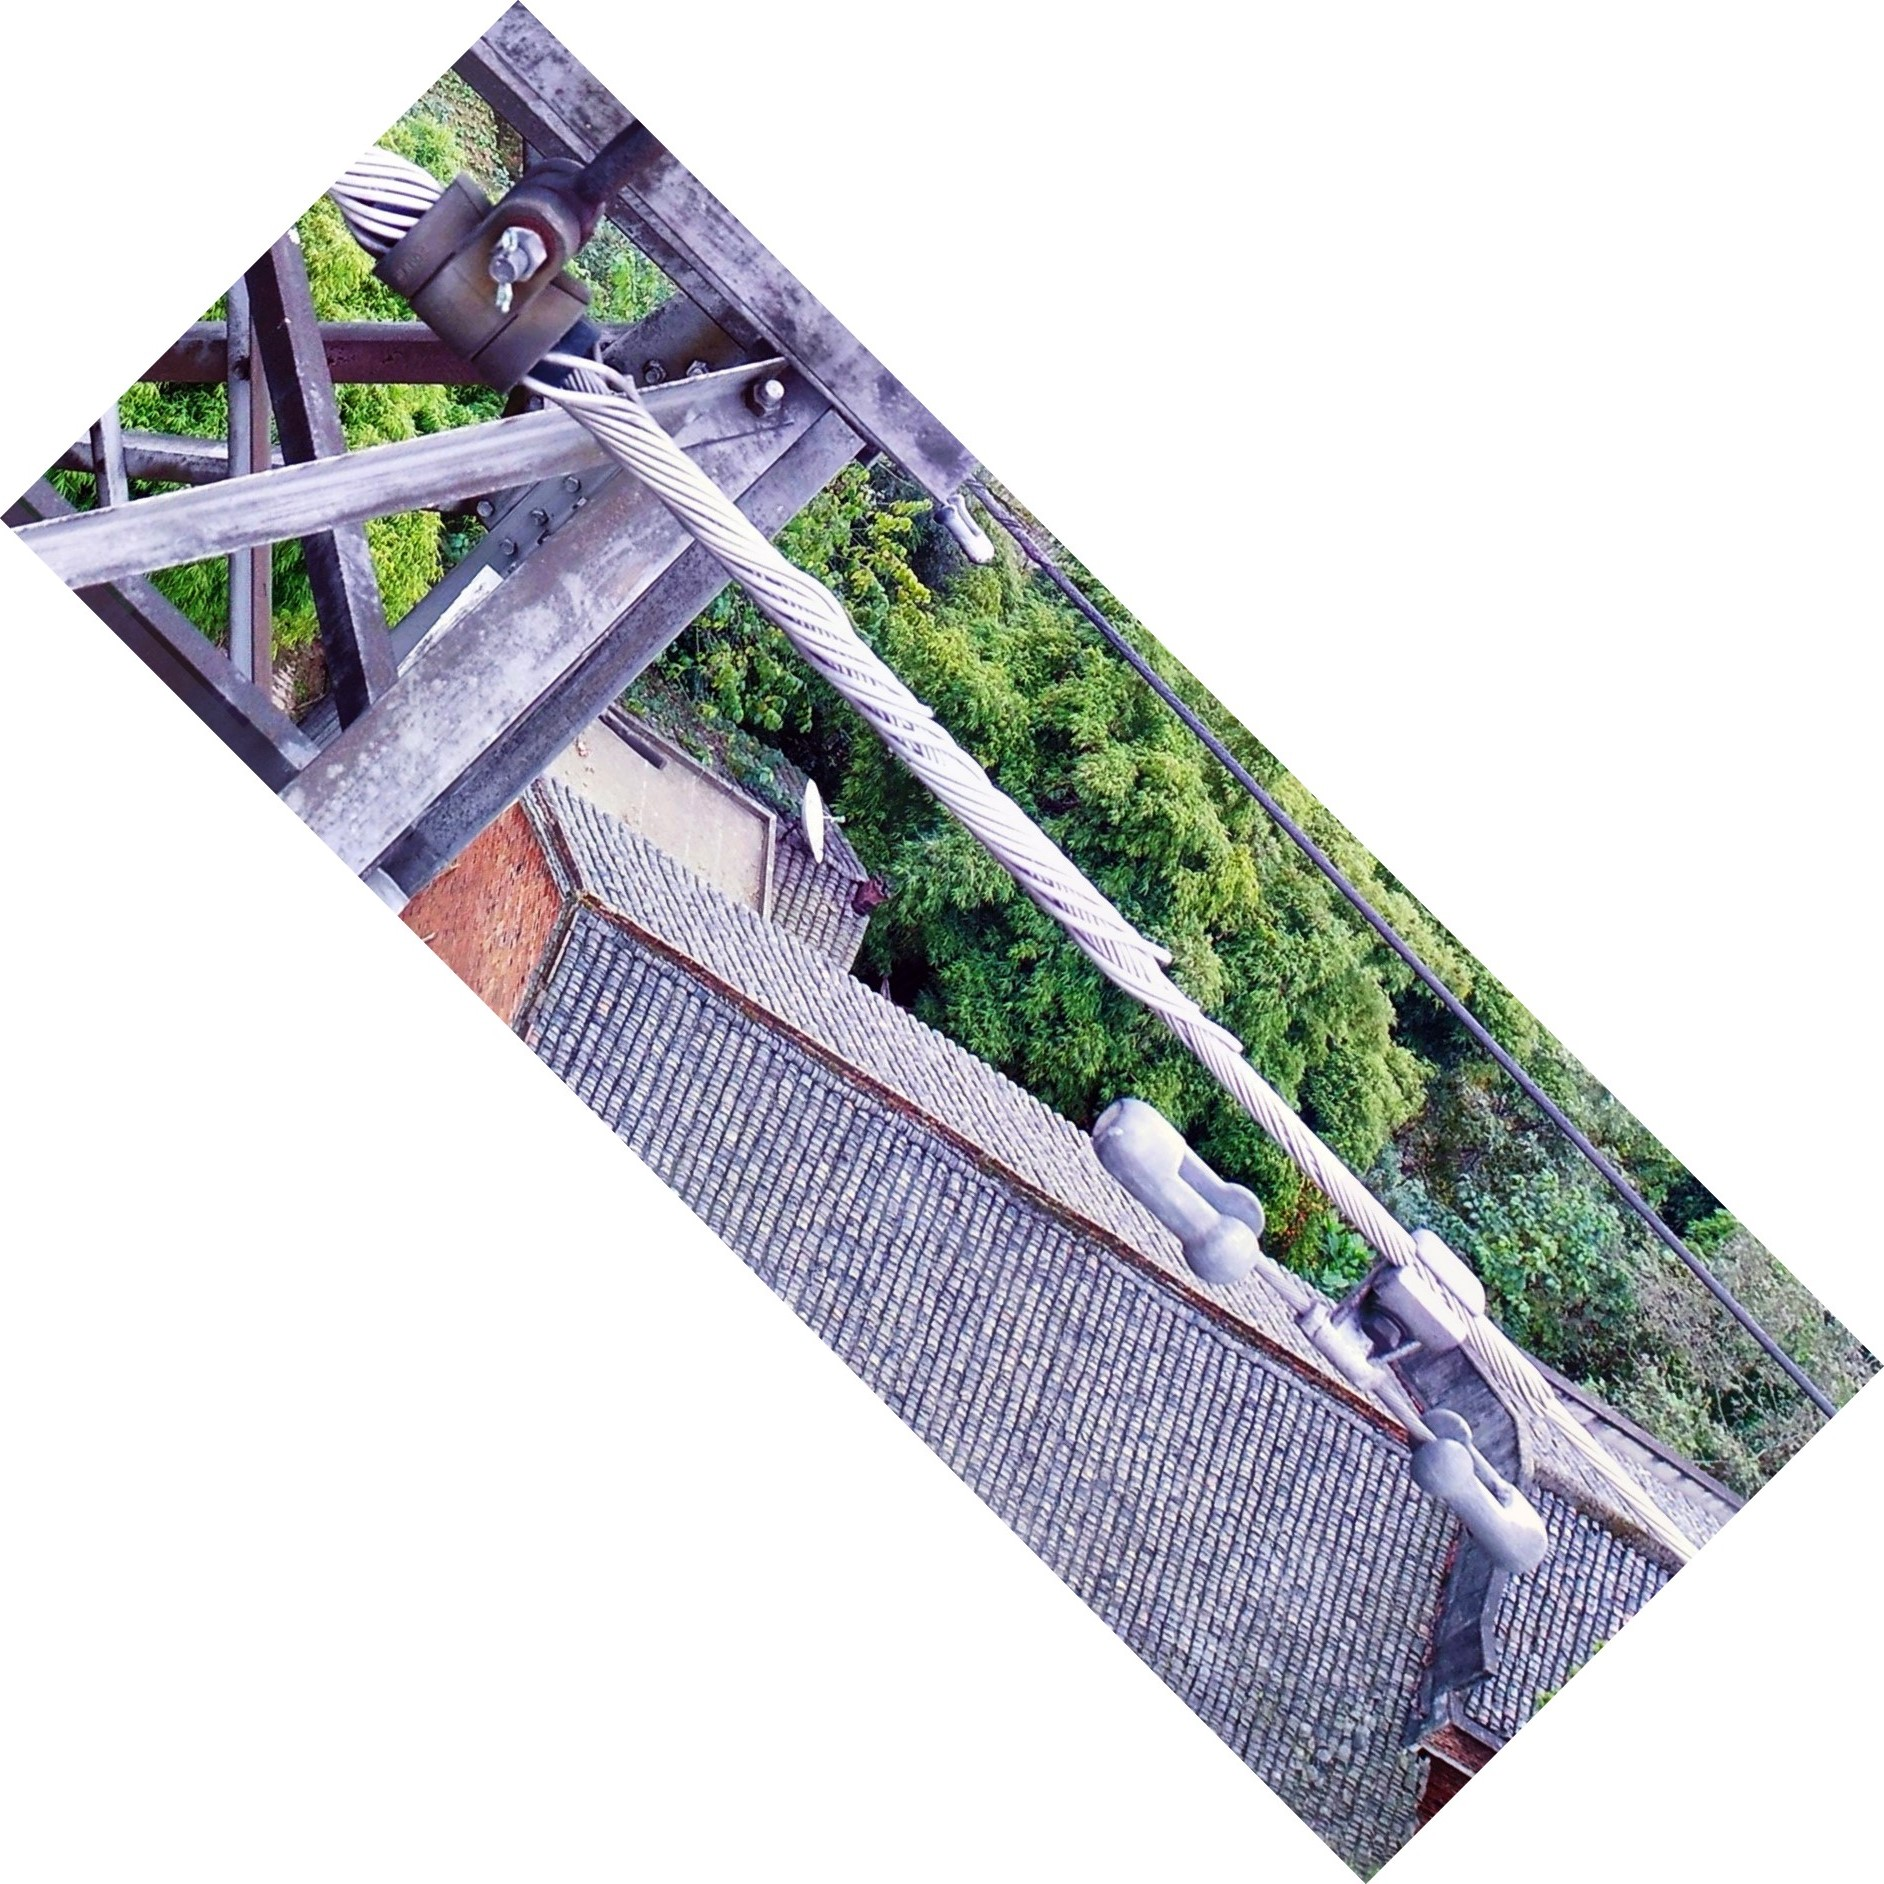Shockproof hammer: (1083, 1044, 1568, 1606)
